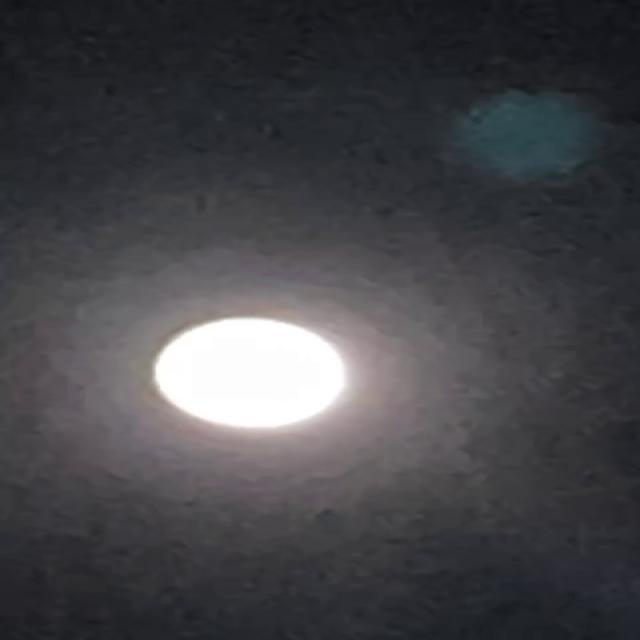moon: (143, 295, 366, 439)
